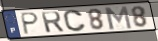8: (87, 8, 106, 31), (131, 5, 149, 29)
C: (62, 9, 87, 33)
M: (103, 5, 134, 31)
P: (20, 11, 40, 36)
R: (40, 10, 66, 34)
